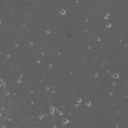corrosion: (48, 104, 56, 116), (58, 7, 67, 17), (111, 71, 120, 80), (17, 74, 24, 84), (84, 100, 92, 108), (3, 89, 11, 97), (4, 52, 12, 60), (75, 97, 83, 105), (103, 12, 110, 21), (37, 114, 45, 121), (62, 119, 70, 126), (47, 62, 54, 69), (57, 110, 64, 117), (35, 59, 42, 65), (44, 29, 51, 35), (111, 81, 117, 88), (44, 85, 50, 92), (105, 23, 113, 28), (28, 40, 34, 46), (96, 36, 102, 42), (93, 72, 99, 78), (108, 90, 114, 96), (56, 51, 61, 56)
